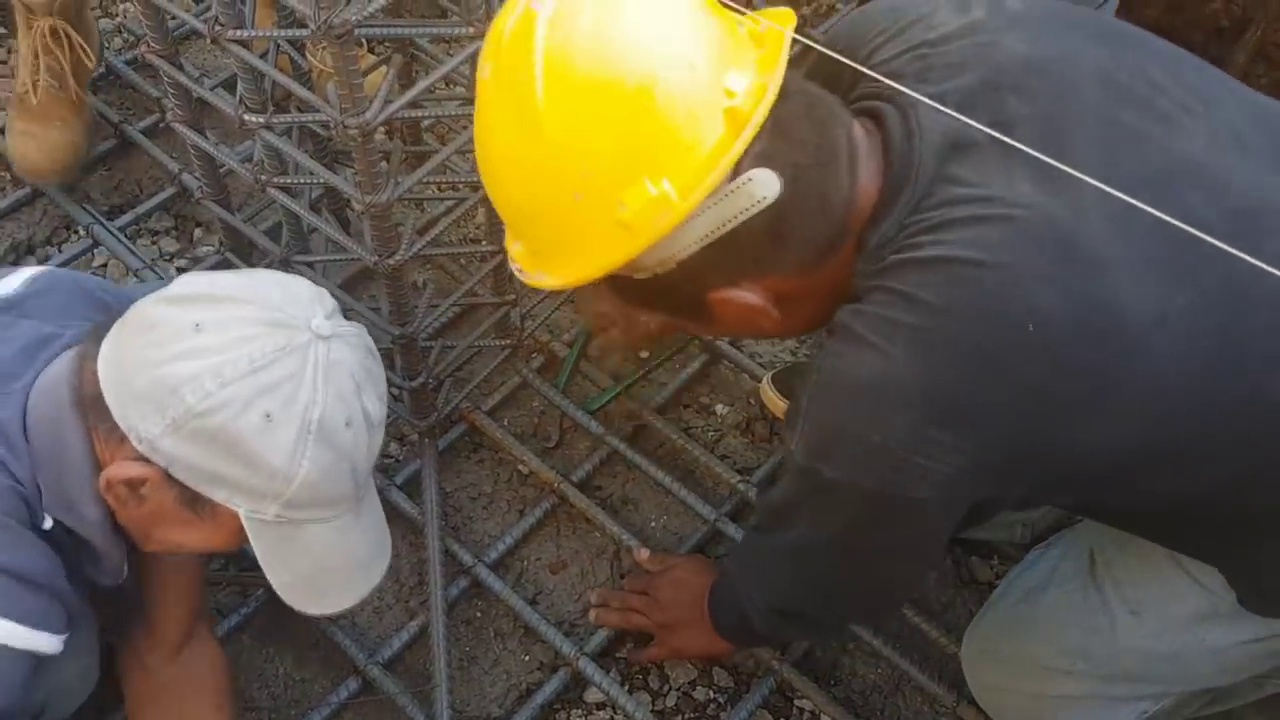helmet: (475, 0, 814, 302)
helmet-off: (69, 273, 399, 600)
helmet-on: (476, 3, 900, 362)
person: (476, 4, 1280, 718), (5, 262, 403, 720)
